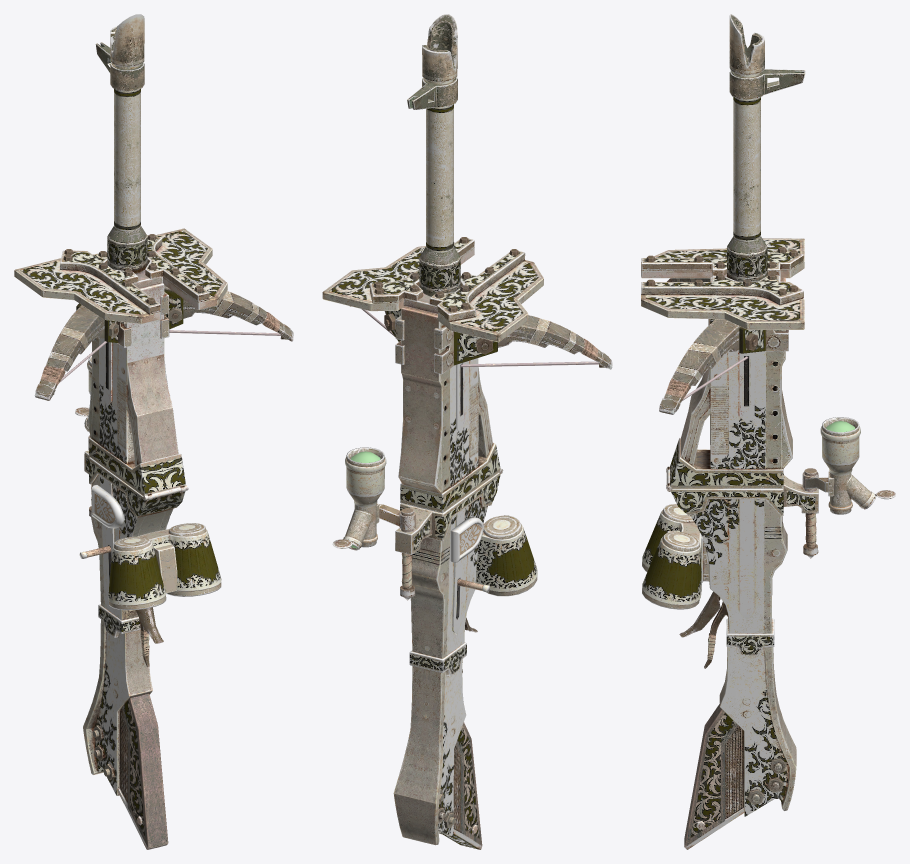
Rendered from bs_hbg010.obj.
3 views of the same model, side by side, from view 1: azimuth 30°, elevation 25°; view 2: azimuth 150°, elevation 25°; view 3: azimuth 270°, elevation 25° (orthographic). The views are drawn at different scales.
Parts seen in each view (by area): view 1: bs_hbg010_000_LOD_1, bs_hbg010_001_LOD_1, bs_hbg010_006_LOD_1, bs_hbg010_005_LOD_1, bs_hbg010_009_LOD_1, bs_hbg010_004_LOD_1, bs_hbg010_003_LOD_1, bs_hbg010_008_LOD_1, bs_hbg010_002_LOD_1; view 2: bs_hbg010_000_LOD_1, bs_hbg010_001_LOD_1, bs_hbg010_006_LOD_1, bs_hbg010_005_LOD_1, bs_hbg010_007_LOD_1, bs_hbg010_009_LOD_1, bs_hbg010_004_LOD_1, bs_hbg010_002_LOD_1; view 3: bs_hbg010_000_LOD_1, bs_hbg010_001_LOD_1, bs_hbg010_006_LOD_1, bs_hbg010_005_LOD_1, bs_hbg010_009_LOD_1, bs_hbg010_007_LOD_1, bs_hbg010_003_LOD_1.
Boxes of the visible parts, x1=… form: bs_hbg010_000_LOD_1: x1=79, y1=450, x2=184, y2=849; bs_hbg010_001_LOD_1: x1=76, y1=270, x2=188, y2=500; bs_hbg010_006_LOD_1: x1=14, y1=228, x2=227, y2=323; bs_hbg010_005_LOD_1: x1=95, y1=14, x2=147, y2=273; bs_hbg010_009_LOD_1: x1=108, y1=523, x2=221, y2=610; bs_hbg010_004_LOD_1: x1=34, y1=305, x2=104, y2=400; bs_hbg010_003_LOD_1: x1=164, y1=285, x2=293, y2=341; bs_hbg010_008_LOD_1: x1=153, y1=542, x2=177, y2=593; bs_hbg010_002_LOD_1: x1=59, y1=330, x2=280, y2=382; bs_hbg010_000_LOD_1: x1=393, y1=472, x2=500, y2=849; bs_hbg010_001_LOD_1: x1=384, y1=293, x2=503, y2=513; bs_hbg010_006_LOD_1: x1=322, y1=237, x2=543, y2=342; bs_hbg010_005_LOD_1: x1=407, y1=14, x2=460, y2=295; bs_hbg010_007_LOD_1: x1=332, y1=447, x2=415, y2=550; bs_hbg010_009_LOD_1: x1=475, y1=515, x2=537, y2=596; bs_hbg010_004_LOD_1: x1=498, y1=315, x2=612, y2=369; bs_hbg010_002_LOD_1: x1=361, y1=309, x2=598, y2=367; bs_hbg010_000_LOD_1: x1=671, y1=474, x2=818, y2=849; bs_hbg010_001_LOD_1: x1=666, y1=270, x2=792, y2=491; bs_hbg010_006_LOD_1: x1=641, y1=238, x2=804, y2=329; bs_hbg010_005_LOD_1: x1=727, y1=14, x2=805, y2=281; bs_hbg010_009_LOD_1: x1=642, y1=504, x2=701, y2=609; bs_hbg010_007_LOD_1: x1=802, y1=417, x2=895, y2=514; bs_hbg010_003_LOD_1: x1=659, y1=319, x2=740, y2=414.
Size of the model in its own units: 78.46 by 237 by 65.9.
